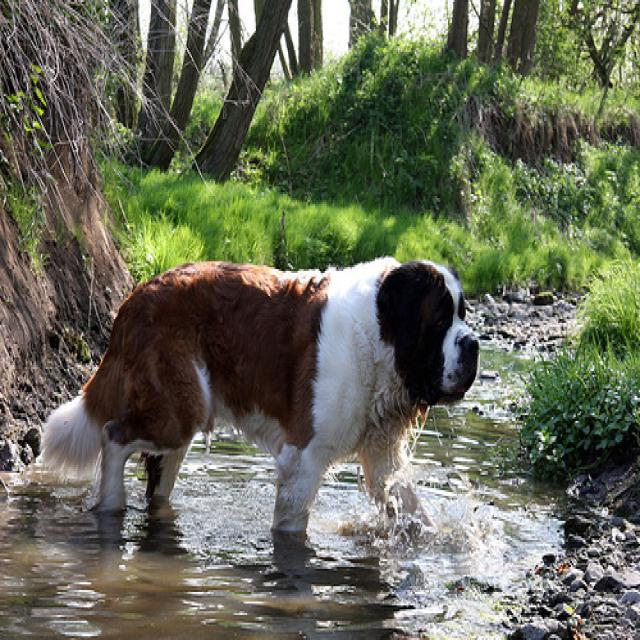dog-saint_bernard: (32, 246, 486, 542)
